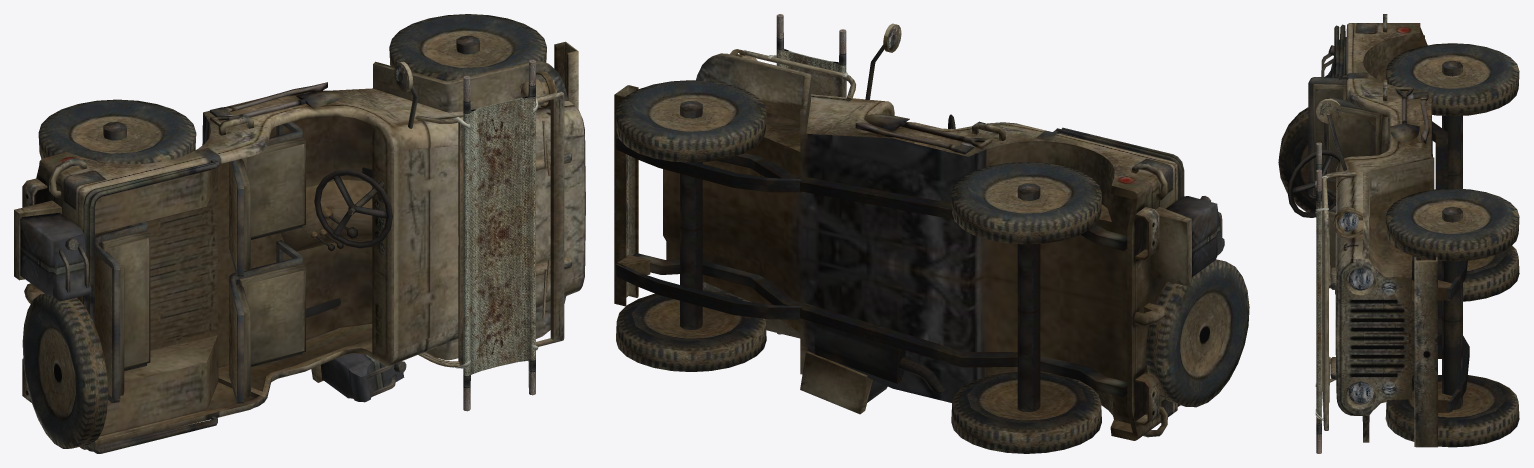
Rendered from vehicle_africa_jeep_cot.glb.
The picture shows the model from 3 angles, left to right: view 1: azimuth 30°, elevation 25°; view 2: azimuth 150°, elevation 25°; view 3: azimuth 270°, elevation 25°; orthographic projection. The views are drawn at different scales.
Size of the model in its own units: 145 by 85.62 by 61.88.
2 materials, 2 textured.
